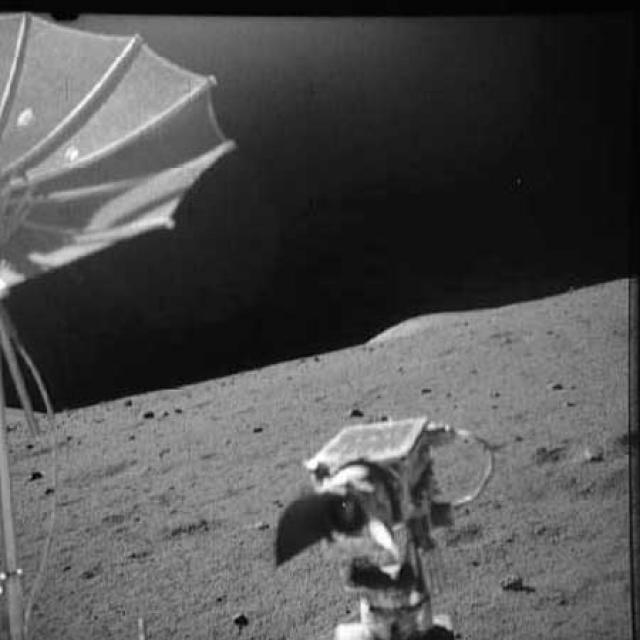artifact: (0, 6, 238, 639), (270, 406, 495, 638)
crater: (55, 458, 161, 492)
rock: (577, 432, 610, 465), (499, 559, 525, 599)
